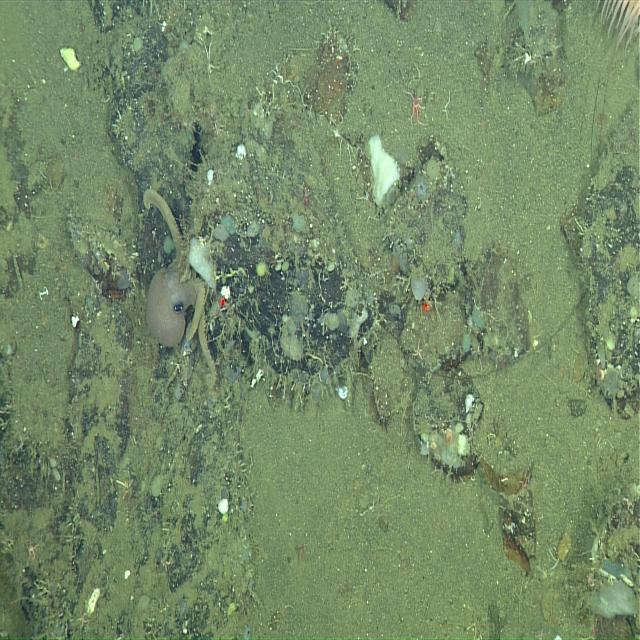Brittle Star: (401, 84, 431, 132), (22, 530, 45, 566), (408, 335, 428, 367), (73, 604, 91, 634)
